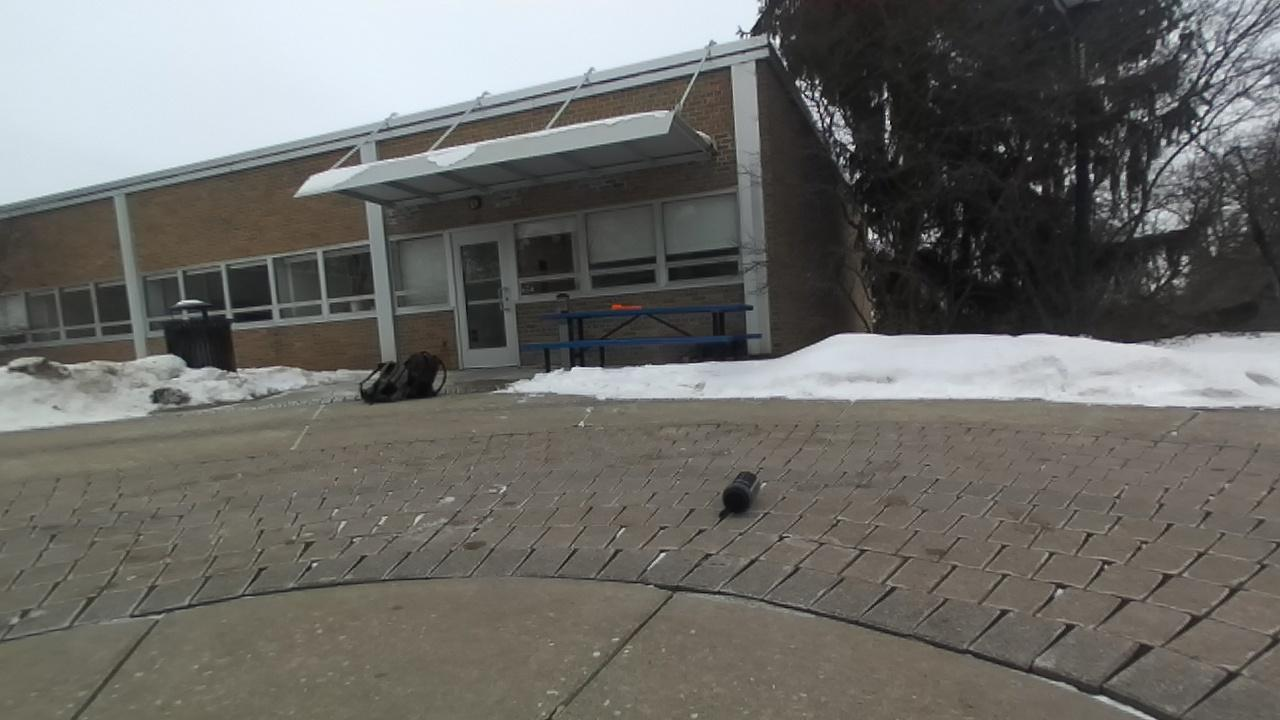bottle: (720, 471, 760, 518)
mallet: (611, 305, 641, 309)
